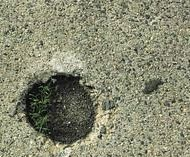Spalling: (23, 72, 98, 145)
